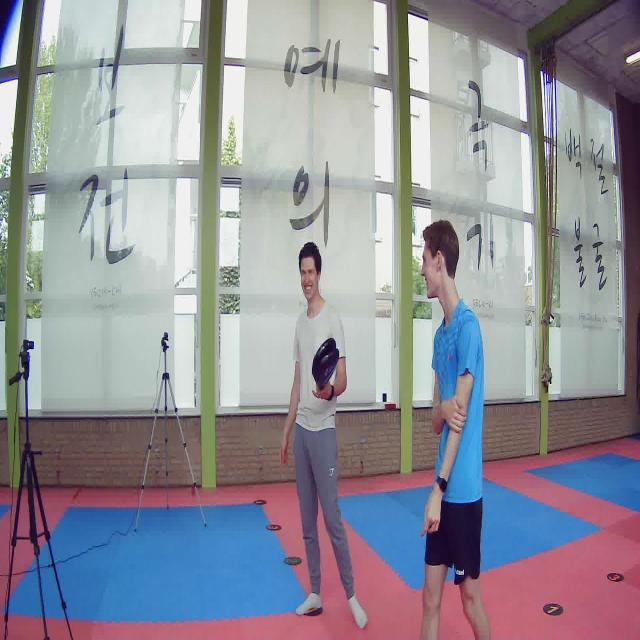paddle: (312, 338, 339, 390)
